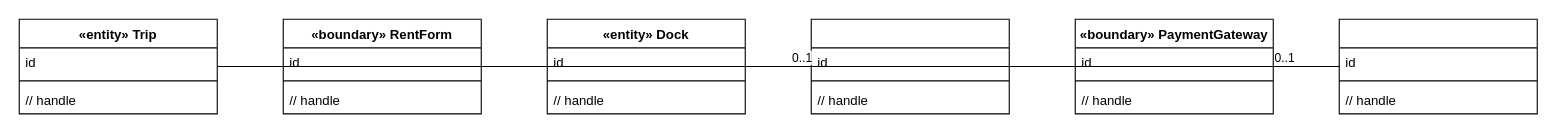
Some shapes in this 1557 by 136 pixel diagram are drawn without their labels. The box of each missing label's shape, as (x1, y1, x2, y2) in pixels:
«control» RentController: (810, 18, 1009, 114)
«entity» Bike: (1338, 18, 1537, 114)
